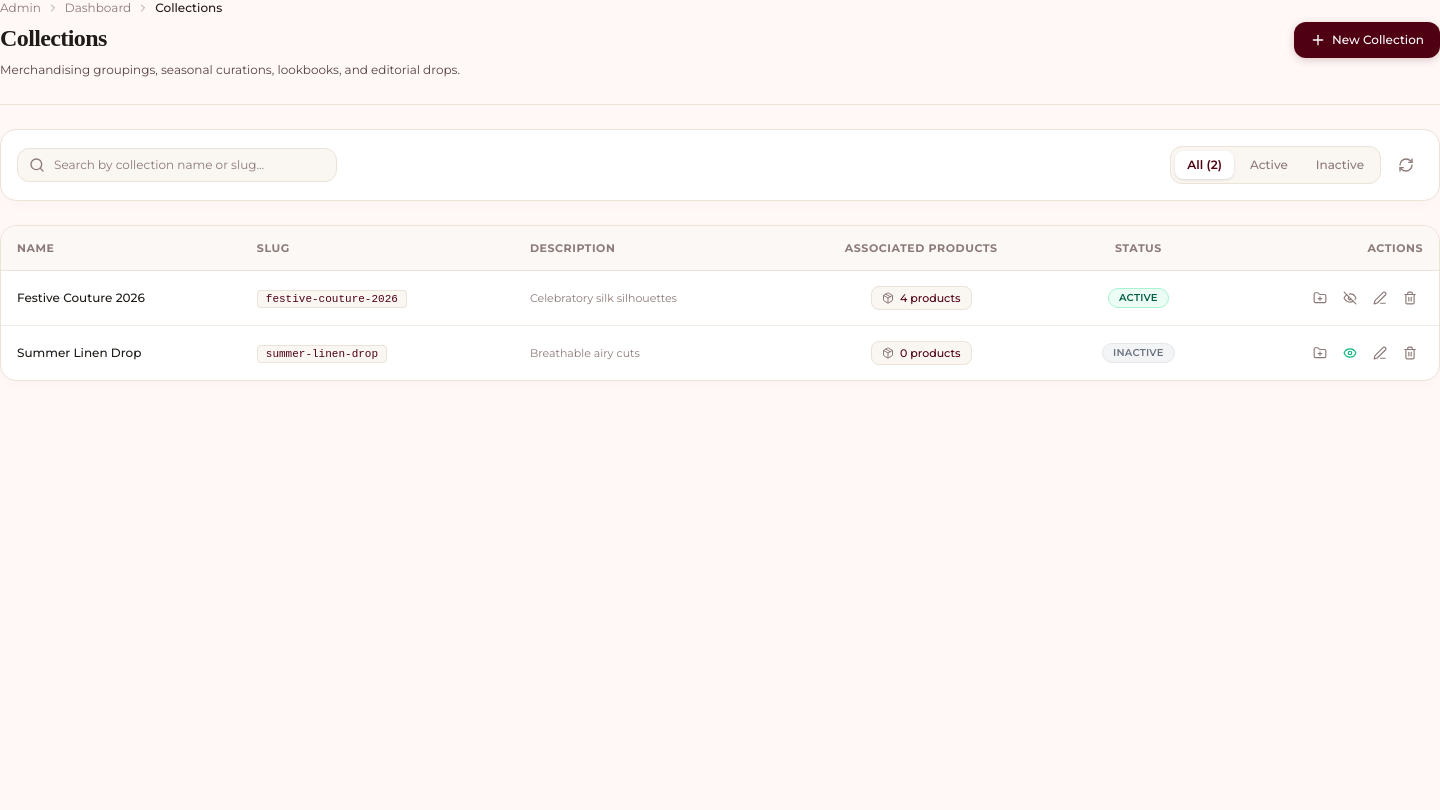
it: Admin Collection Management Flow › blocks deletion when collection contains products and offers deactivation
The image size is (1440, 810).
Expected: the text "Festive Couture 2026" is shown, 17,290 -> 145,305
// Click delete on Festive Couture (contains 4 products)
Step 1. Click the button named "Delete collection" in the row of "Festive Couture 2026" → (1410, 298), box 1397,285 -> 1423,311
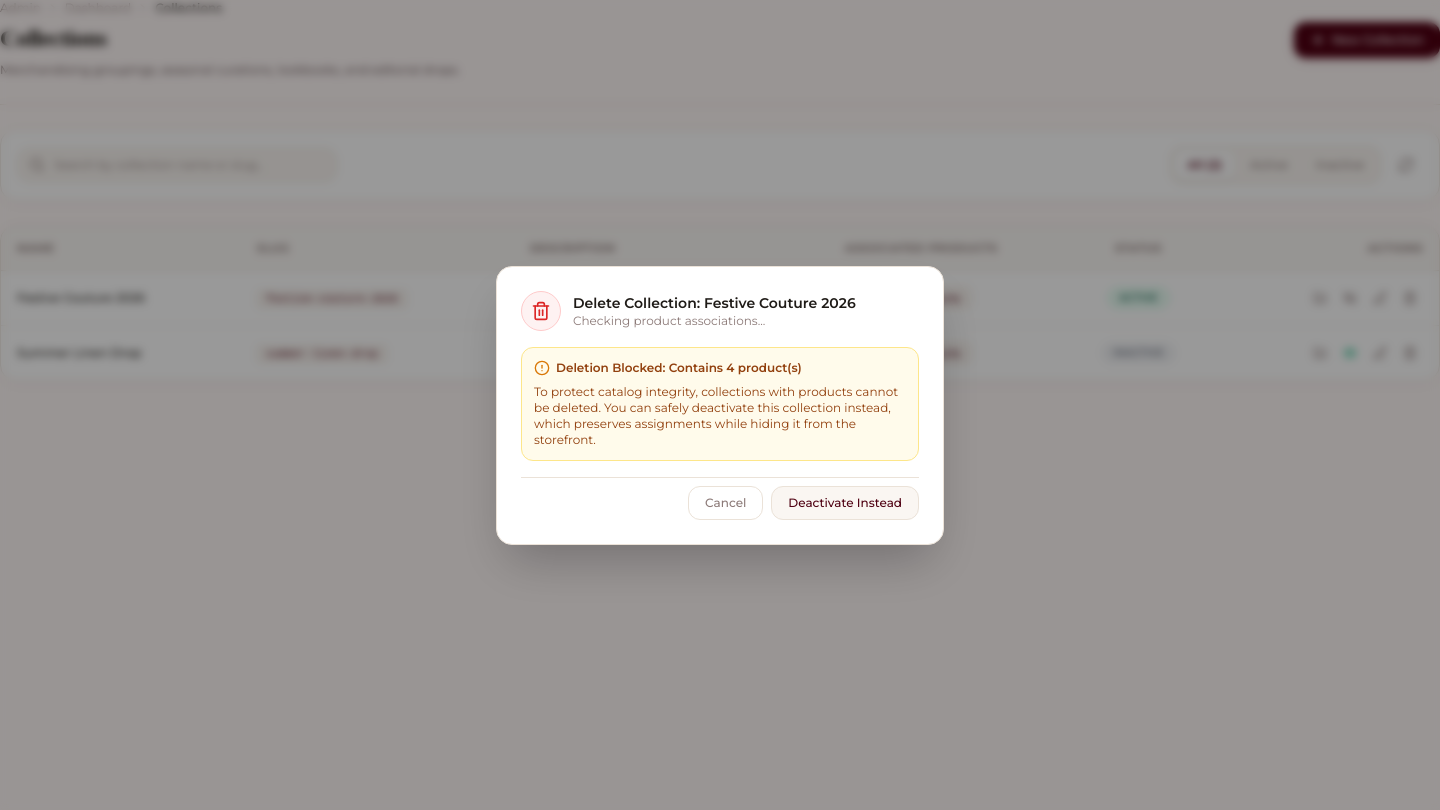
Expected: the text "Deletion Blocked: Contains 4 product(s)" is shown, 534,360 -> 802,376
Expected: the button "Deactivate Instead" is shown, 771,486 -> 919,520
